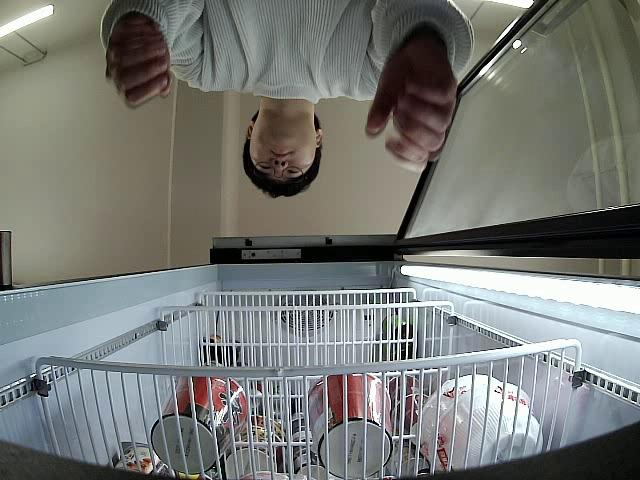00_hand: (366, 36, 457, 172), (104, 13, 174, 110)
